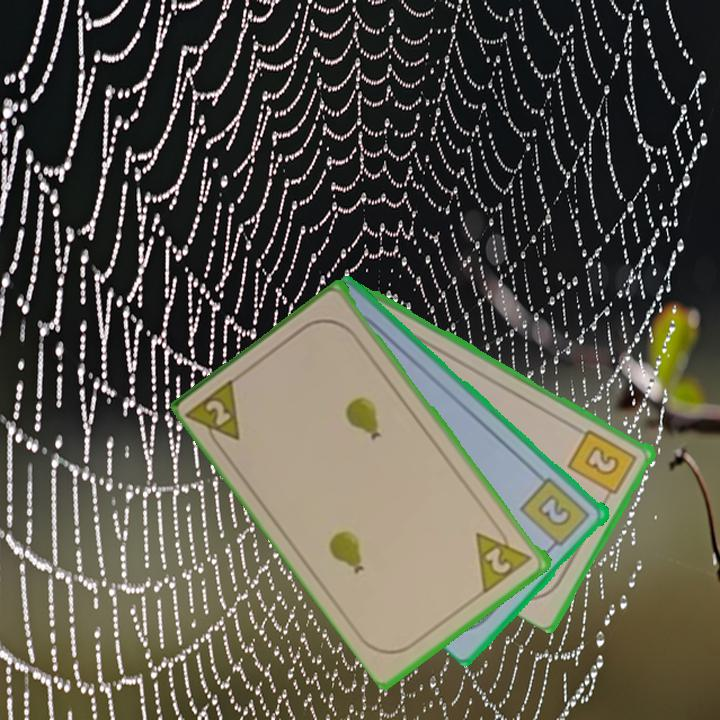2b: (517, 474, 594, 554), (565, 425, 640, 504)
2p: (184, 374, 244, 456), (472, 519, 536, 595)
